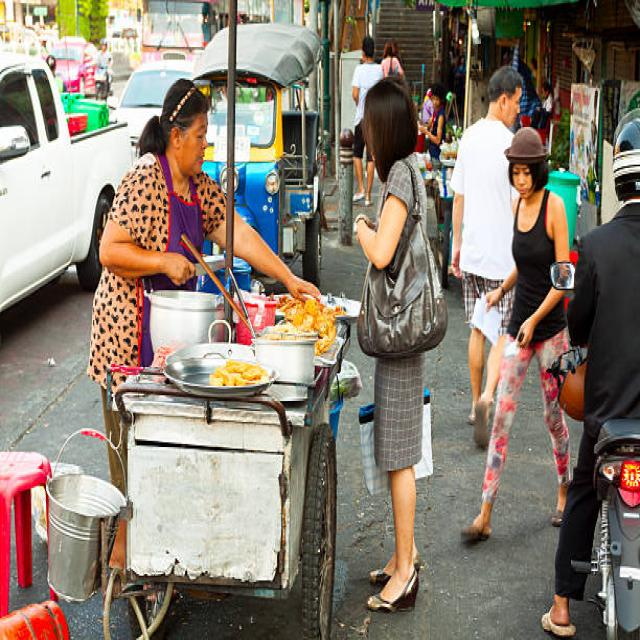Emperan: (86, 0, 374, 640)
